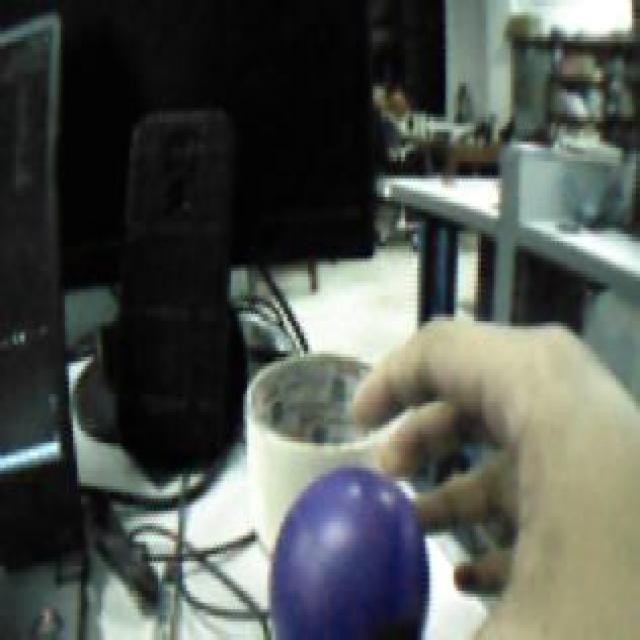BallPurple: (267, 464, 429, 640)
